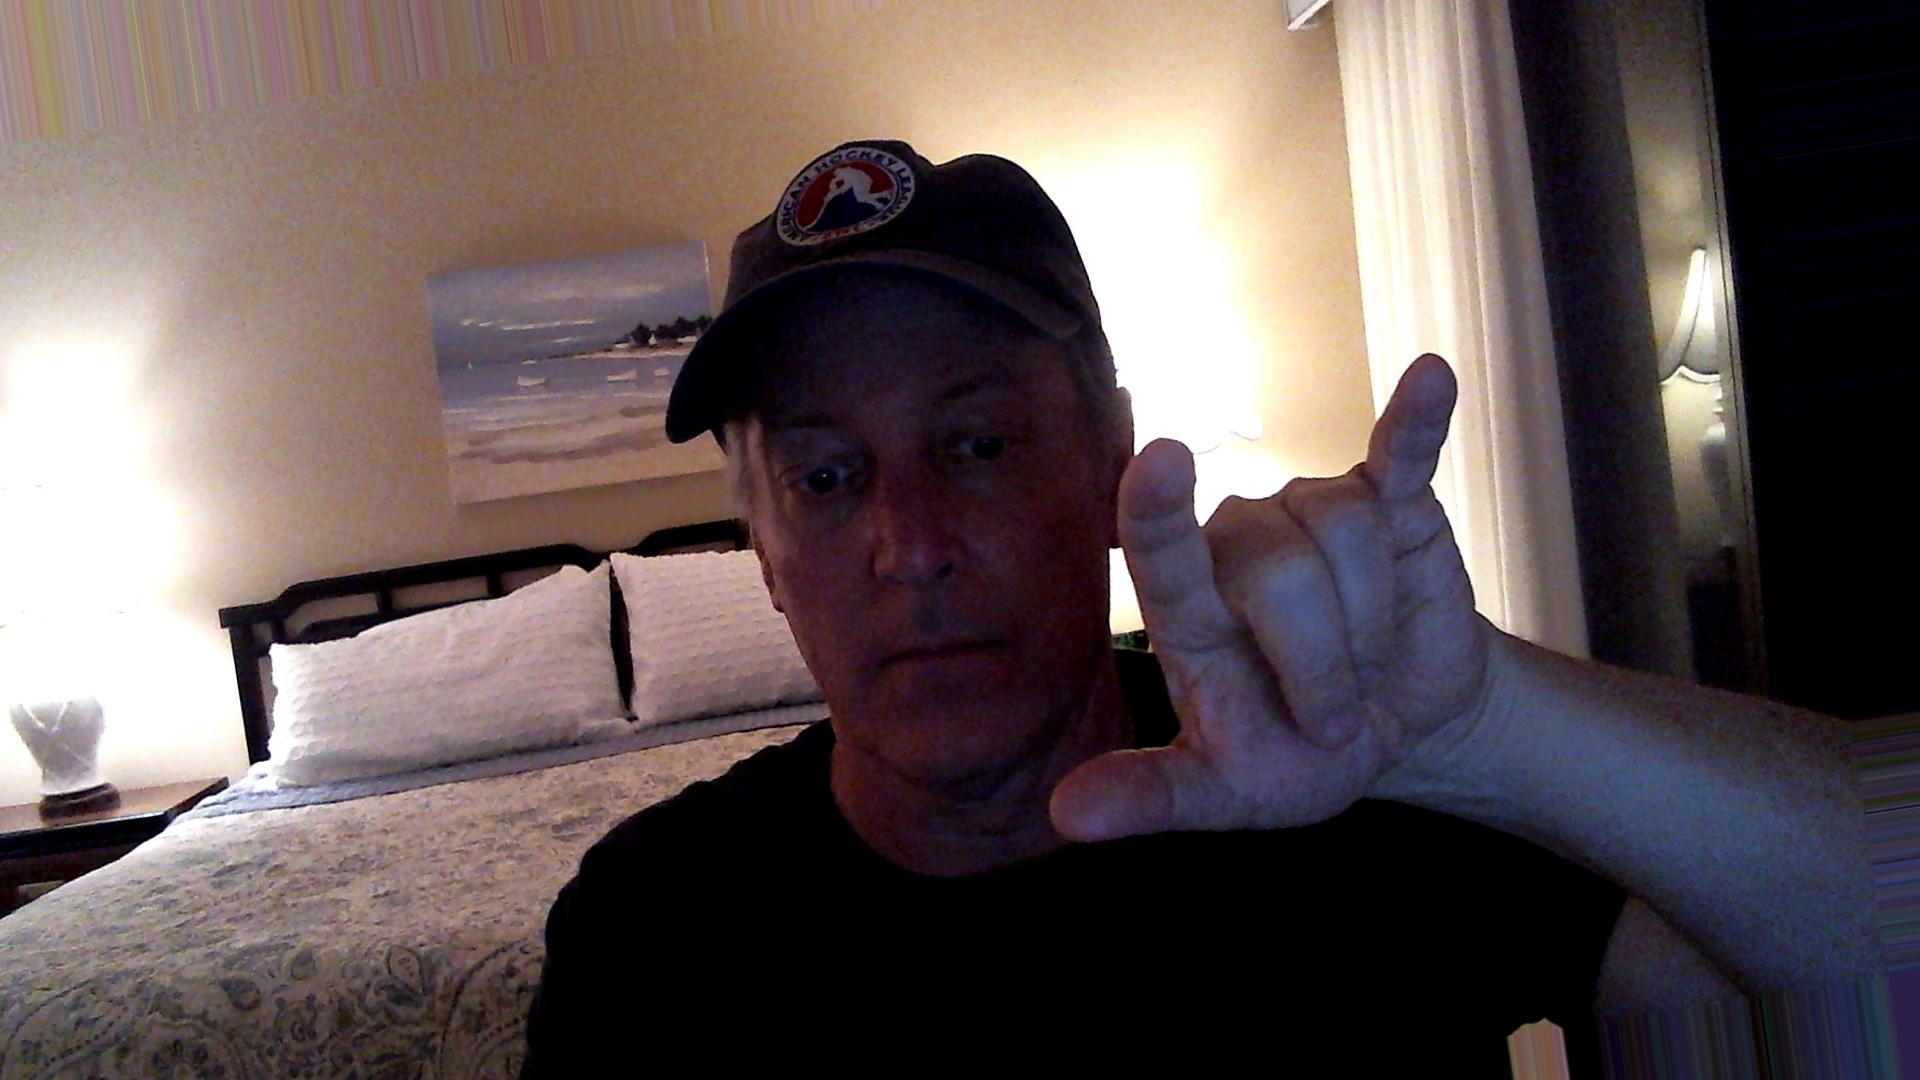I Love You: (1036, 347, 1518, 852)
